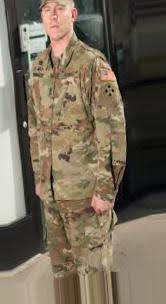uniform: (22, 34, 132, 299)
